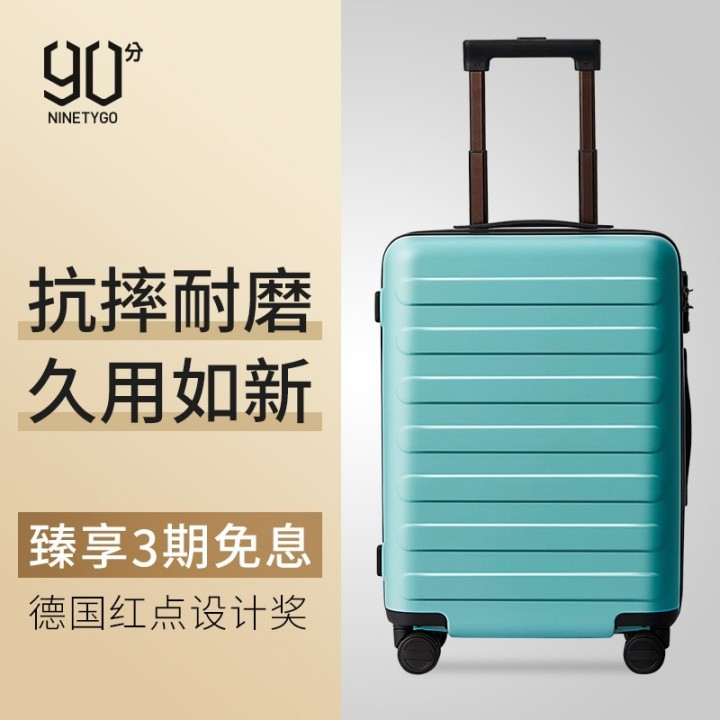box: (382, 235, 682, 638)
handle: (682, 347, 693, 507), (451, 220, 614, 230)
wheel: (394, 632, 441, 675), (623, 635, 666, 674)
